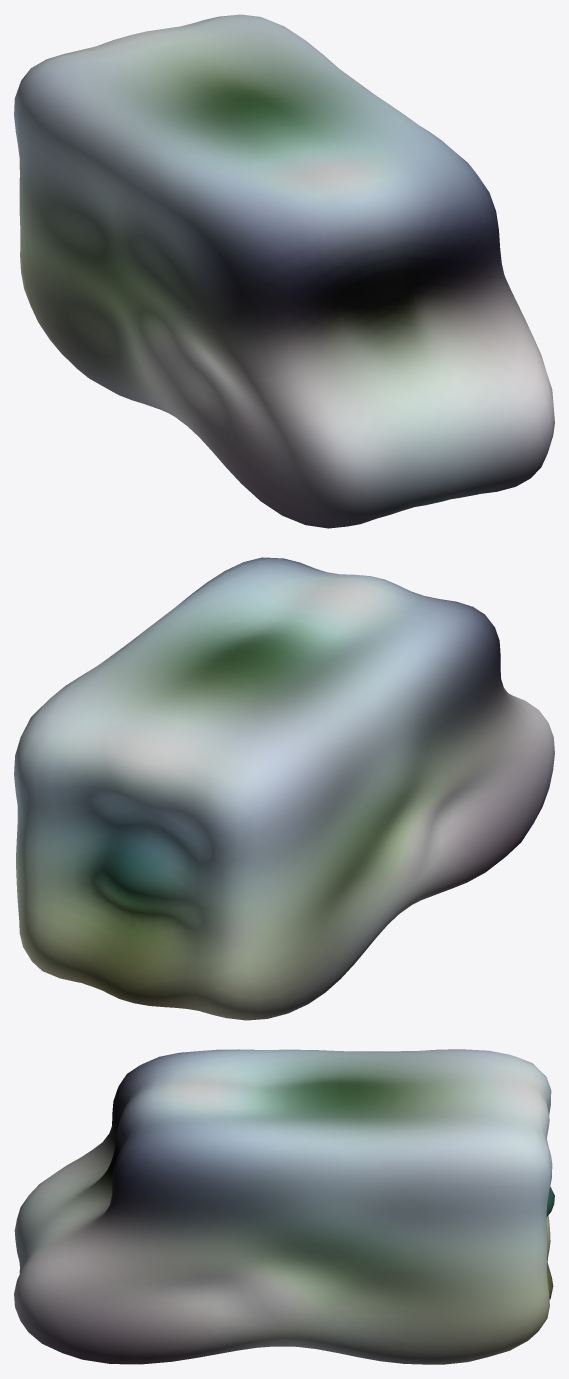
Rendered from CesiumMilkTruck_128B_sh.glb.
3 renders of one model, top to bottom at view 1: azimuth 30°, elevation 25°; view 2: azimuth 150°, elevation 25°; view 3: azimuth 270°, elevation 25°, orthographic. The views are drawn at different scales.
Size of the model in its own units: 0.9357 by 0.9591 by 1.99.
